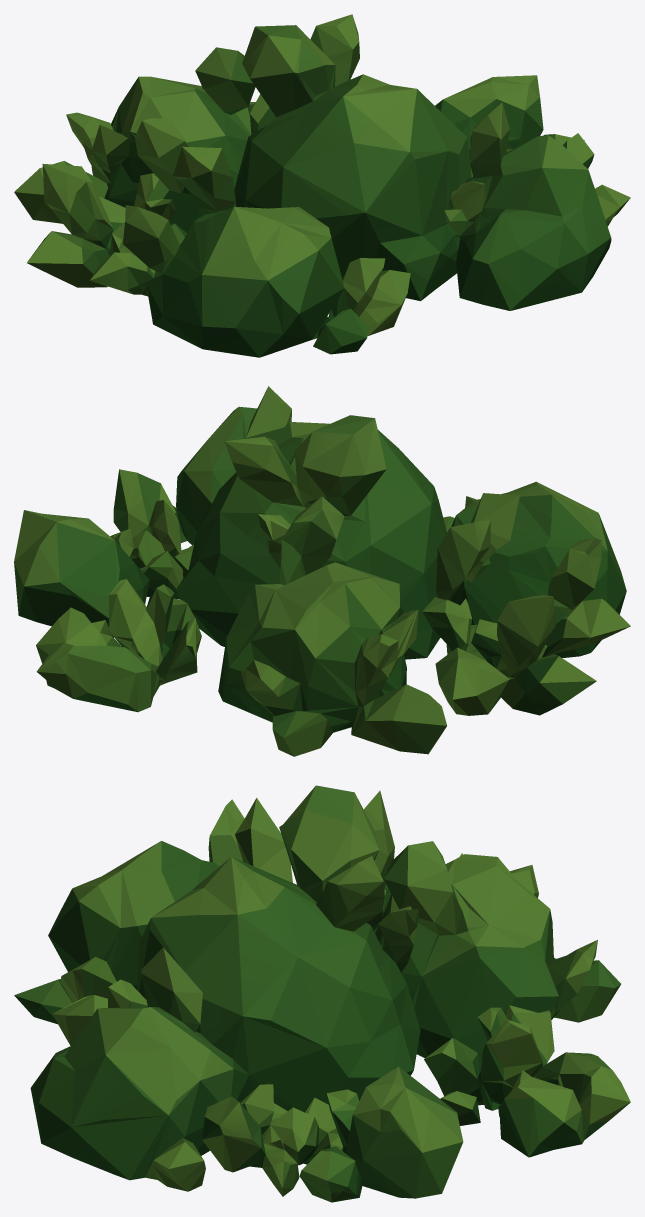
Rendered from bush2_lod.glb.
3 renders of one model, top to bottom at view 1: azimuth 30°, elevation 25°; view 2: azimuth 150°, elevation 25°; view 3: azimuth 270°, elevation 25°, orthographic. The views are drawn at different scales.
Parts seen in each view (by area): view 1: bush2_lod; view 2: bush2_lod; view 3: bush2_lod.
Part boxes in pixels (x1=…): bush2_lod: x1=14, y1=14, x2=630, y2=357; bush2_lod: x1=14, y1=386, x2=630, y2=756; bush2_lod: x1=14, y1=785, x2=630, y2=1202.
Bounding box in the file's own units: 1 × 0.3818 × 0.8525.
Materials: 1 (1 with a texture image).
